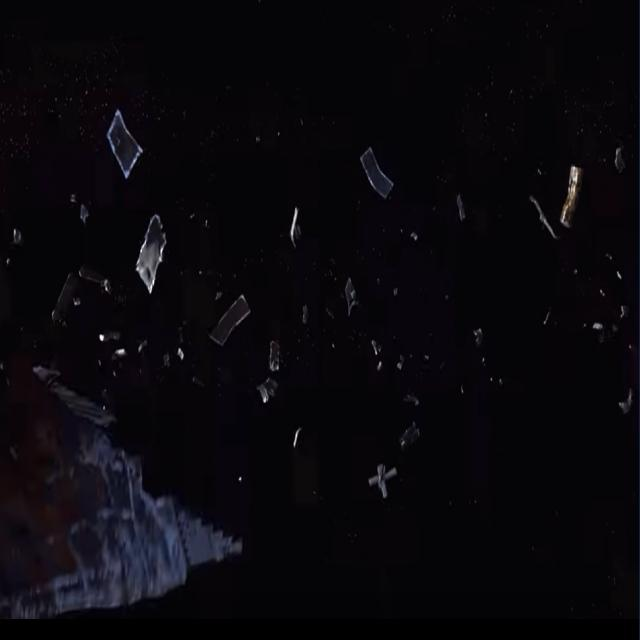large_debris: (3, 356, 236, 622), (534, 144, 584, 244), (355, 139, 410, 221), (205, 289, 252, 365), (108, 96, 142, 188), (135, 208, 168, 302), (366, 453, 404, 520), (262, 332, 288, 423), (282, 199, 308, 264), (618, 381, 634, 438), (342, 273, 358, 329), (455, 186, 469, 234)
